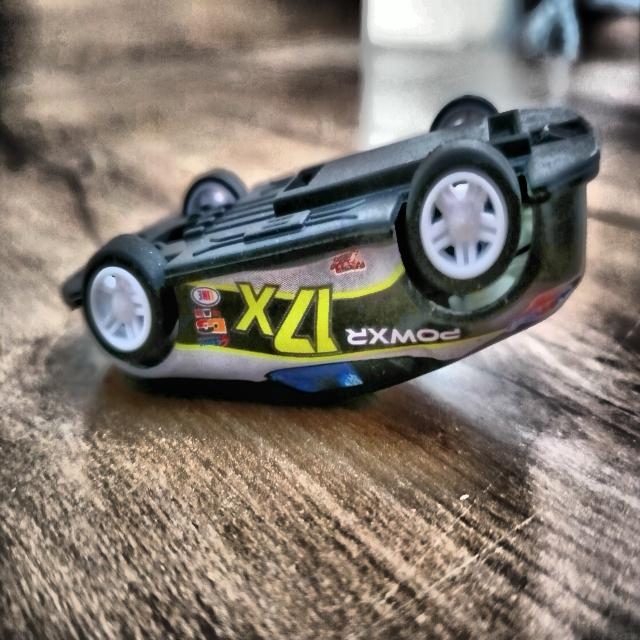Car: (57, 90, 603, 403)
